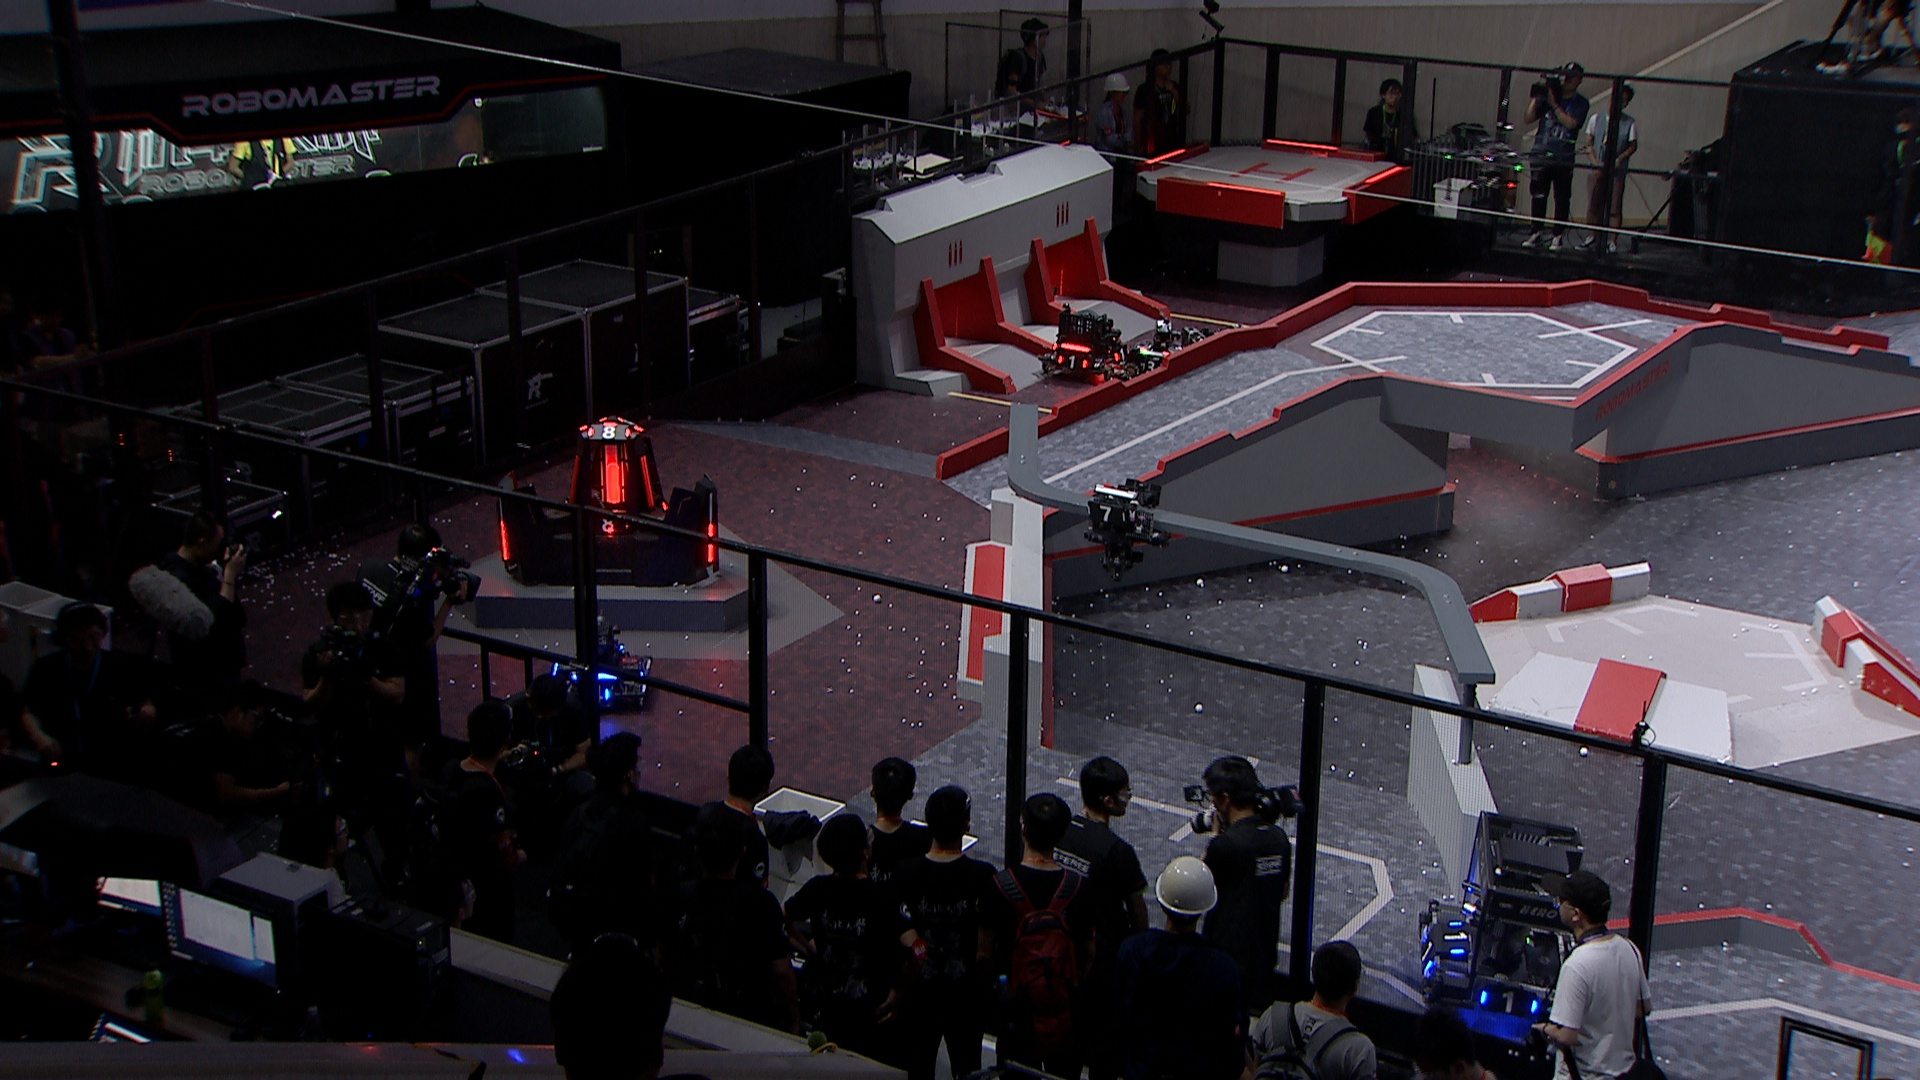armor: (1474, 986, 1542, 1015), (564, 452, 584, 508), (603, 460, 624, 506), (1441, 920, 1468, 957), (638, 452, 655, 509), (1418, 928, 1437, 977), (1084, 501, 1126, 524), (583, 425, 632, 442), (1054, 352, 1091, 372), (498, 520, 514, 564), (593, 517, 632, 535), (704, 524, 719, 564), (1112, 345, 1133, 365), (1139, 361, 1158, 375), (1171, 343, 1185, 353)
base: (493, 415, 724, 589)
car: (1414, 812, 1596, 1036), (546, 615, 655, 713), (1036, 301, 1133, 384), (1122, 315, 1188, 381)
watcher: (1081, 475, 1168, 583)
